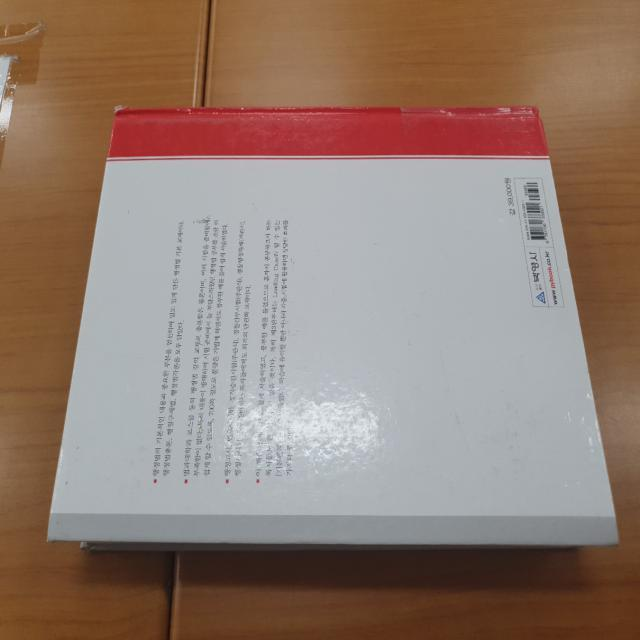Ripped: (110, 102, 145, 118)
